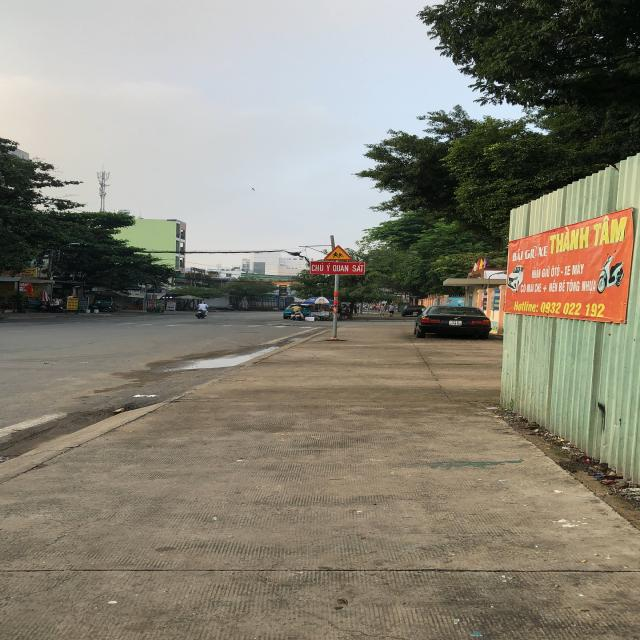Bien bao tre em: (322, 244, 352, 262)
